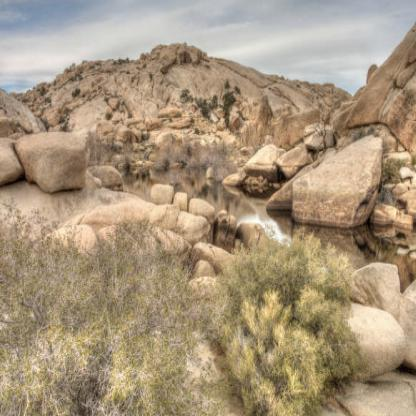Sedimentary_Sandstone: (286, 128, 389, 220), (22, 119, 90, 189), (346, 294, 407, 368), (130, 46, 200, 102), (187, 178, 222, 232), (1, 130, 24, 205)
